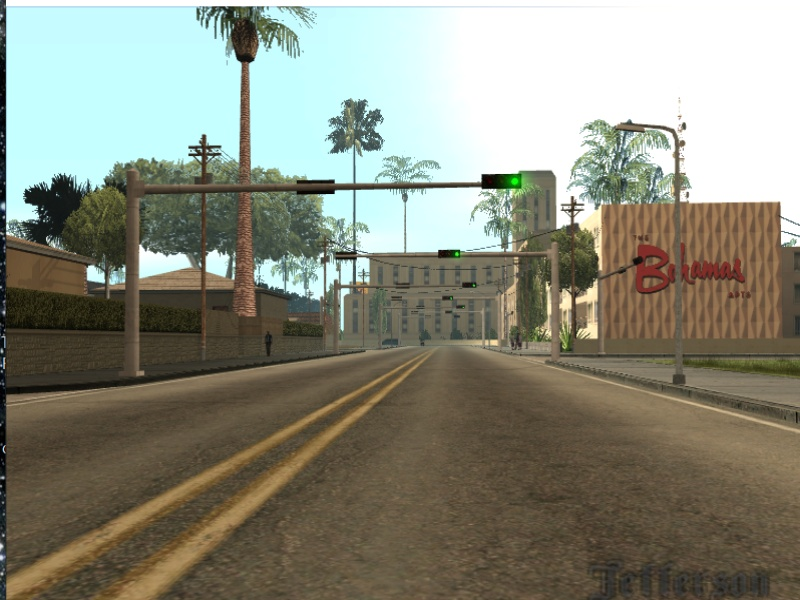person: (264, 333, 274, 358), (512, 331, 524, 349)
pole: (120, 172, 153, 381), (670, 133, 696, 390), (194, 156, 212, 362), (547, 248, 563, 367), (494, 291, 505, 350), (331, 284, 340, 354), (481, 308, 486, 351)
